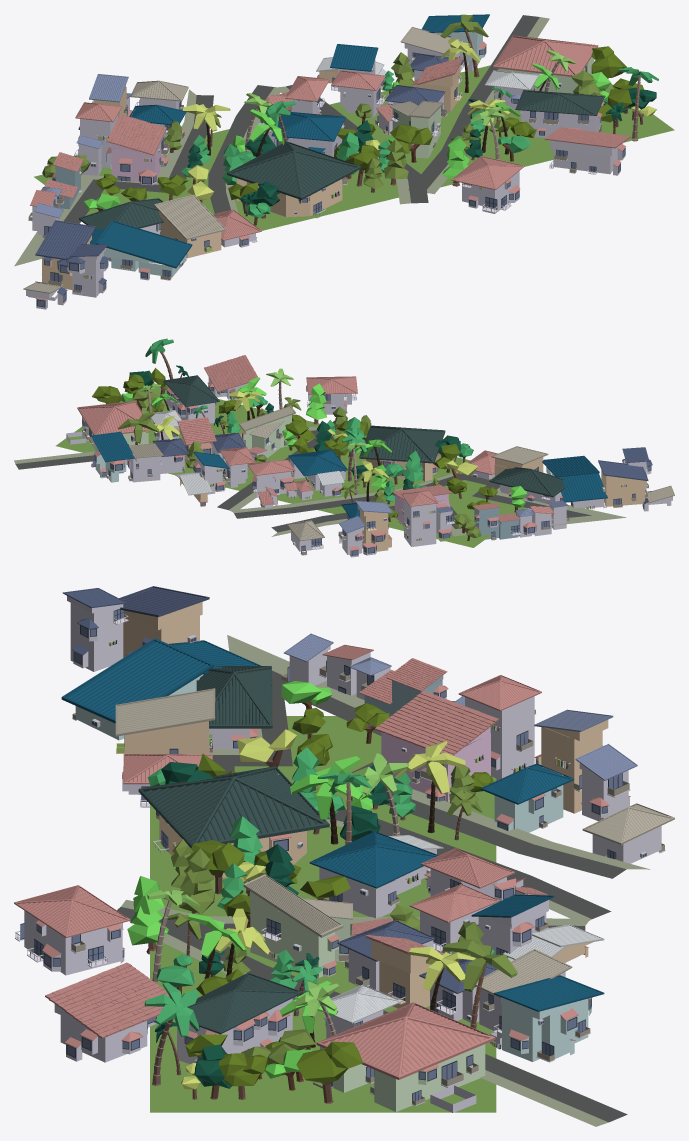
The model's file is QC_Env1.fbx.
3 views of the same model, one above another, from view 1: azimuth 30°, elevation 25°; view 2: azimuth 150°, elevation 25°; view 3: azimuth 270°, elevation 25° (orthographic). The views are drawn at different scales.
Visible parts, largest first — view 1: QC_Env1; view 2: QC_Env1; view 3: QC_Env1.
Boxes of the visible parts, left/top/right/bottom form: QC_Env1: left=14, top=14, right=674, bottom=309; QC_Env1: left=14, top=338, right=674, bottom=557; QC_Env1: left=14, top=586, right=674, bottom=1126.
Size of the model in its own units: 10304 by 1066 by 5631.
